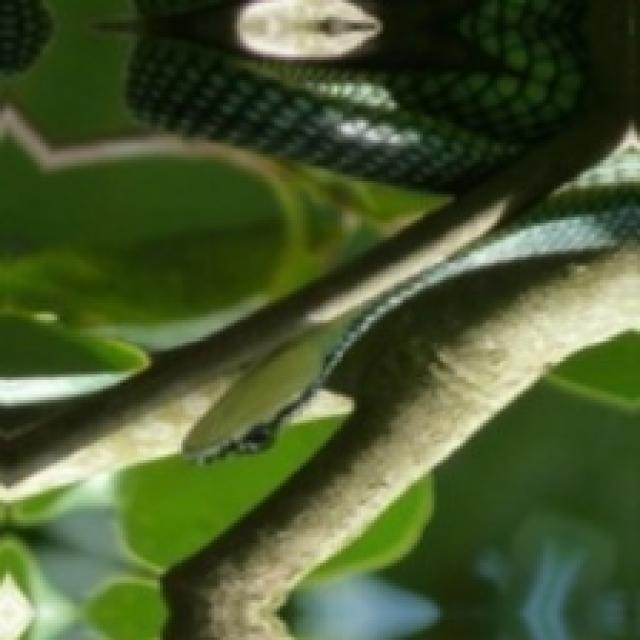paradise tree snake: (182, 133, 639, 461), (128, 0, 582, 191), (0, 0, 50, 73)
